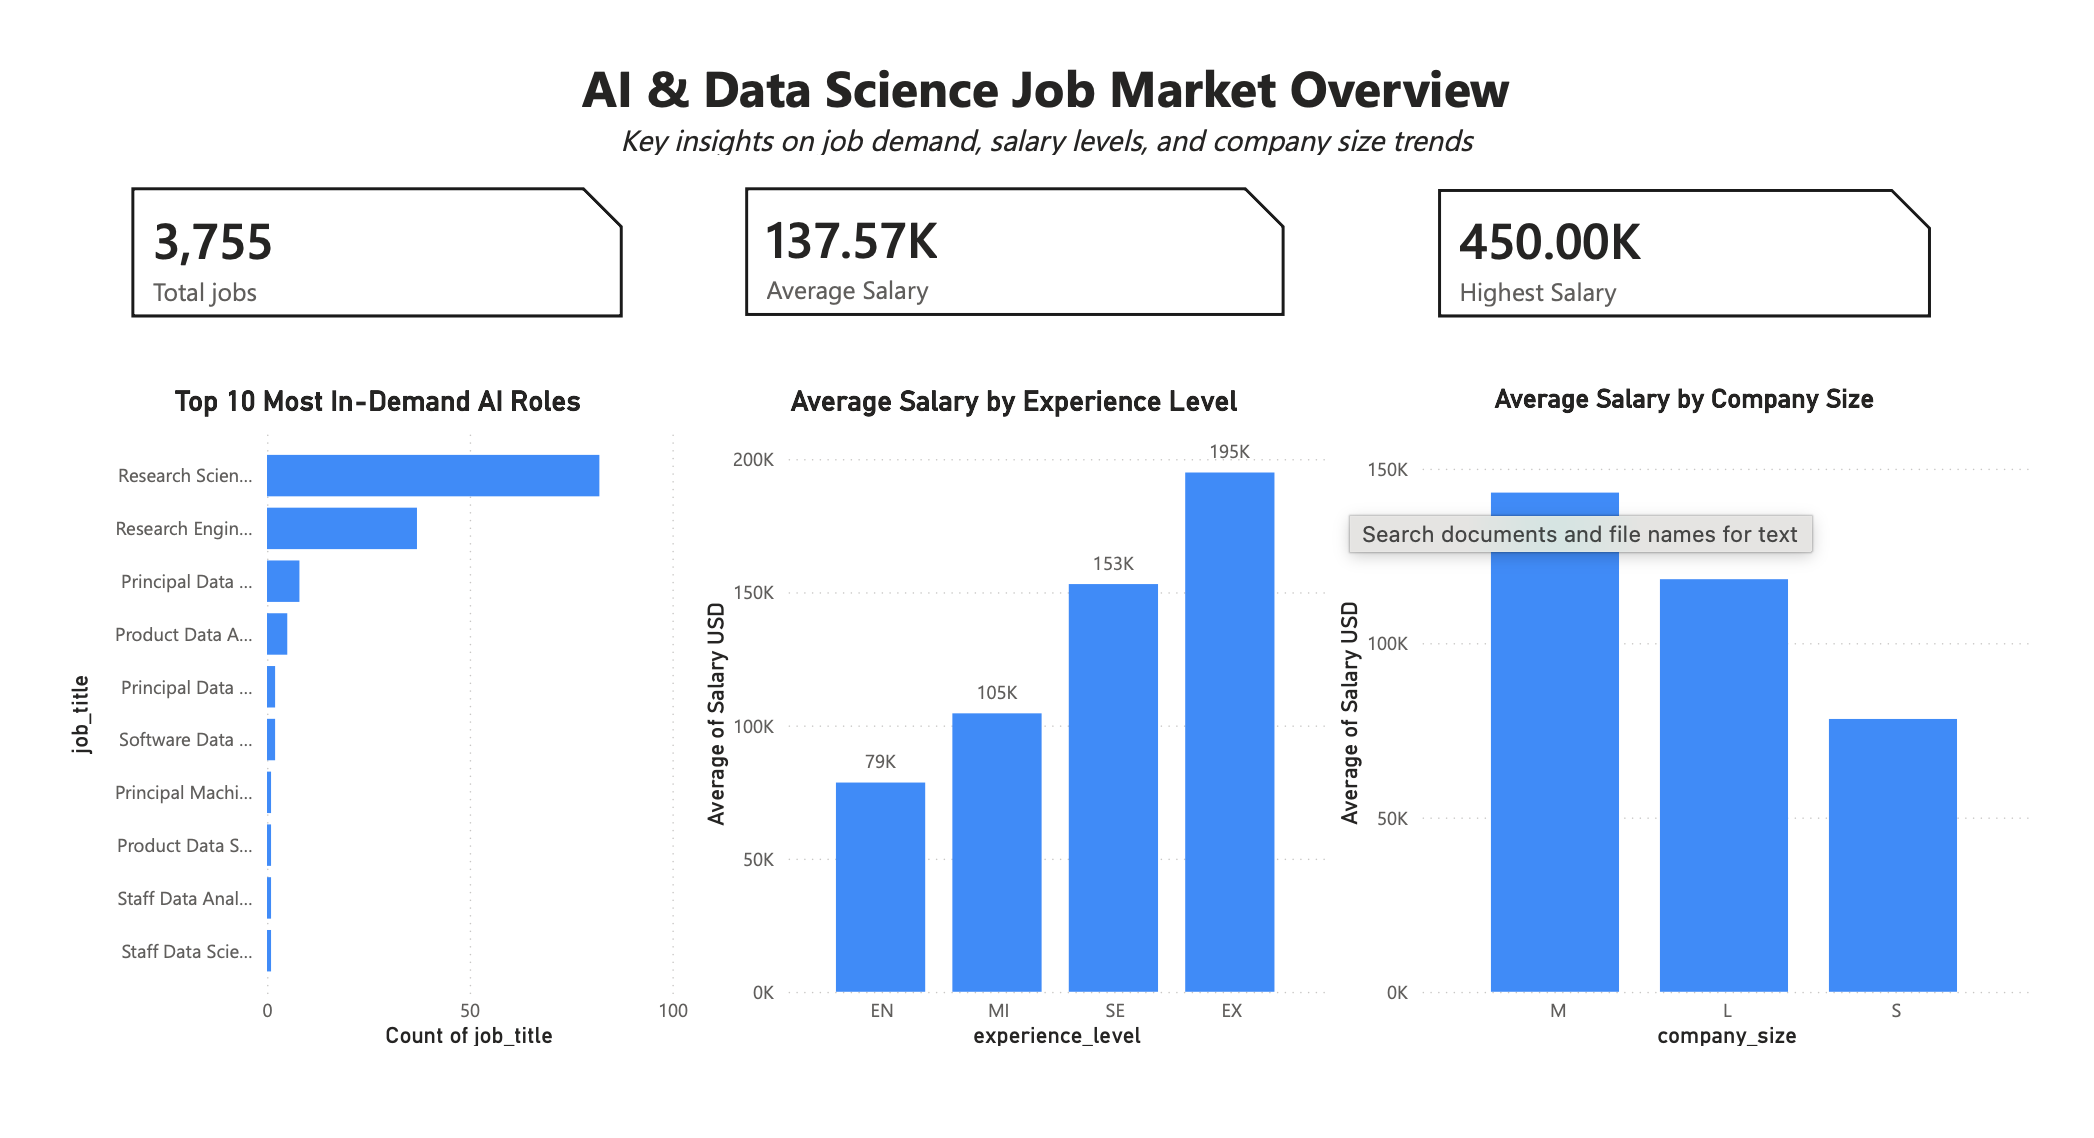

The dashboard page shown, as its layout file describes it:
{"tool":"powerbi","page":{"name":"Page 1","canvas":[1280,720],"ordinal":0},"visuals":[{"type":"clusteredBarChart","title":"Top 10 Most In-Demand AI Roles","fields":{"Y":["CountNonNull(ds_salaries.job_title)"],"Category":["ds_salaries.job_title"]},"box":[0,221,410,430],"z":0},{"type":"clusteredColumnChart","title":"Average Salary by Experience Level","fields":{"Category":["ds_salaries.experience_level"],"Y":["Avg(ds_salaries.Salary USD)"]},"box":[410,221,411,430],"z":1000},{"type":"actionButton","box":[0,0,100,40],"z":2000},{"type":"clusteredColumnChart","title":"Average Salary by Company Size","fields":{"Category":["ds_salaries.company_size"],"Y":["Avg(ds_salaries.Salary USD)"]},"box":[819,221,458,430],"z":3000},{"type":"cardVisual","fields":{"Data":["CountNonNull(ds_salaries.job_title)"]},"box":[29,75,351,118],"z":4000},{"type":"cardVisual","fields":{"Data":["Avg(ds_salaries.Salary USD)"]},"box":[425,75,382,117],"z":5000},{"type":"cardVisual","fields":{"Data":["Max(ds_salaries.Salary USD)"]},"box":[872,76,352,117],"z":6000},{"type":"textbox","box":[0,0,1280.6,93.5],"z":7000}]}

Visuals, with their boxes on the page's 1280x720 design canvas (x1, y1, x2, y2). These are canvas units, not pixel positions in the 2094x1138 screenshot, which may show the page scaled, cropped or inside an application window:
"Top 10 Most In-Demand AI Roles" clusteredBarChart: 0,221,410,651
"Average Salary by Experience Level" clusteredColumnChart: 410,221,821,651
actionButton: 0,0,100,40
"Average Salary by Company Size" clusteredColumnChart: 819,221,1277,651
cardVisual - CountNonNull(ds_salaries.job_title): 29,75,380,193
cardVisual - Avg(ds_salaries.Salary USD): 425,75,807,192
cardVisual - Max(ds_salaries.Salary USD): 872,76,1224,193
textbox: 0,0,1281,94
